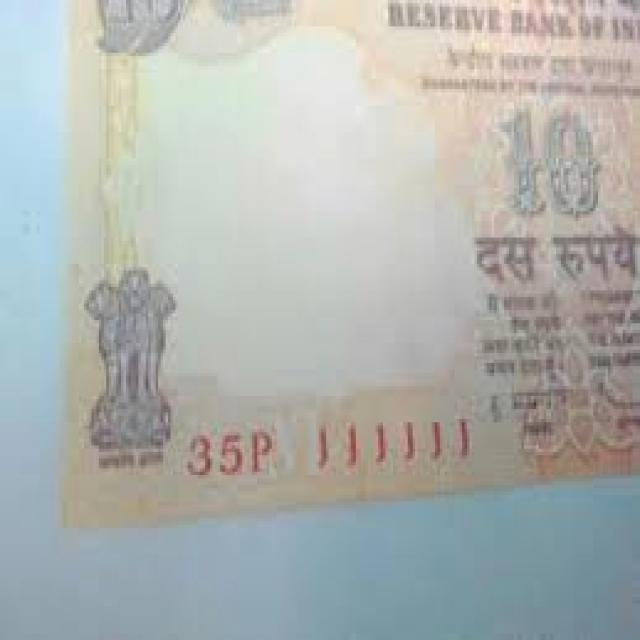10rs: (69, 1, 638, 497)
